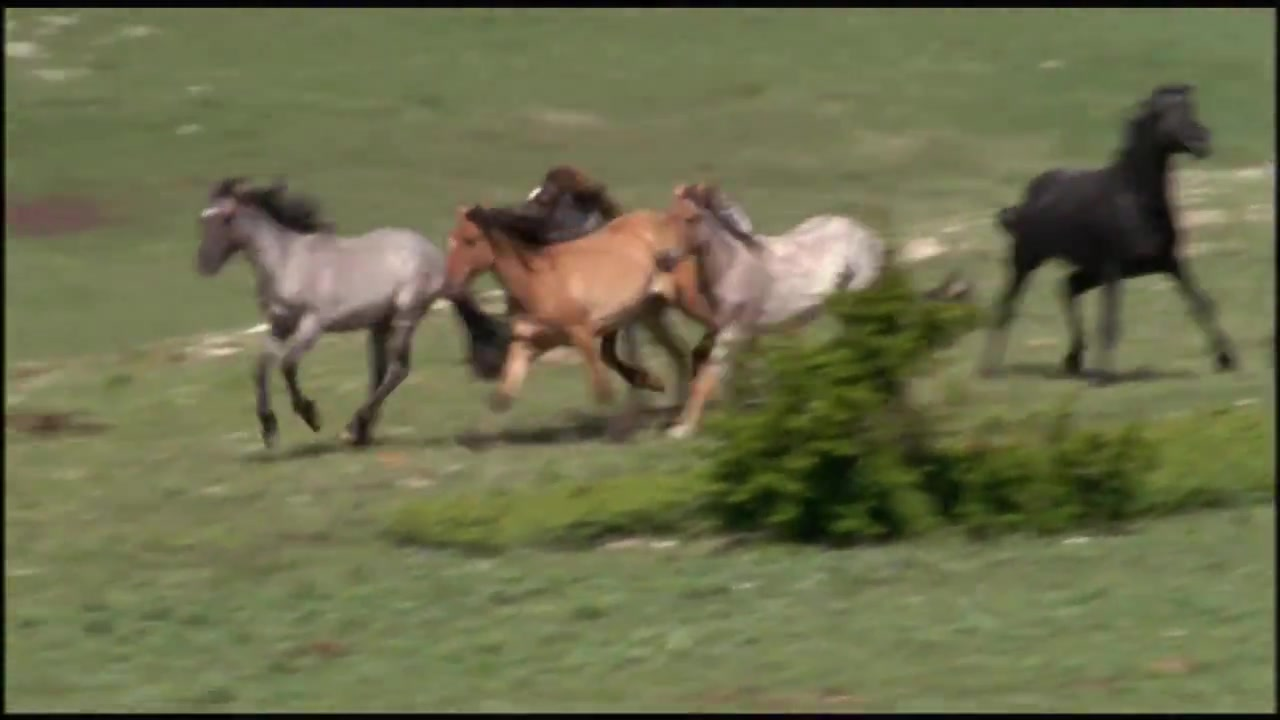horse: (193, 175, 453, 453)
